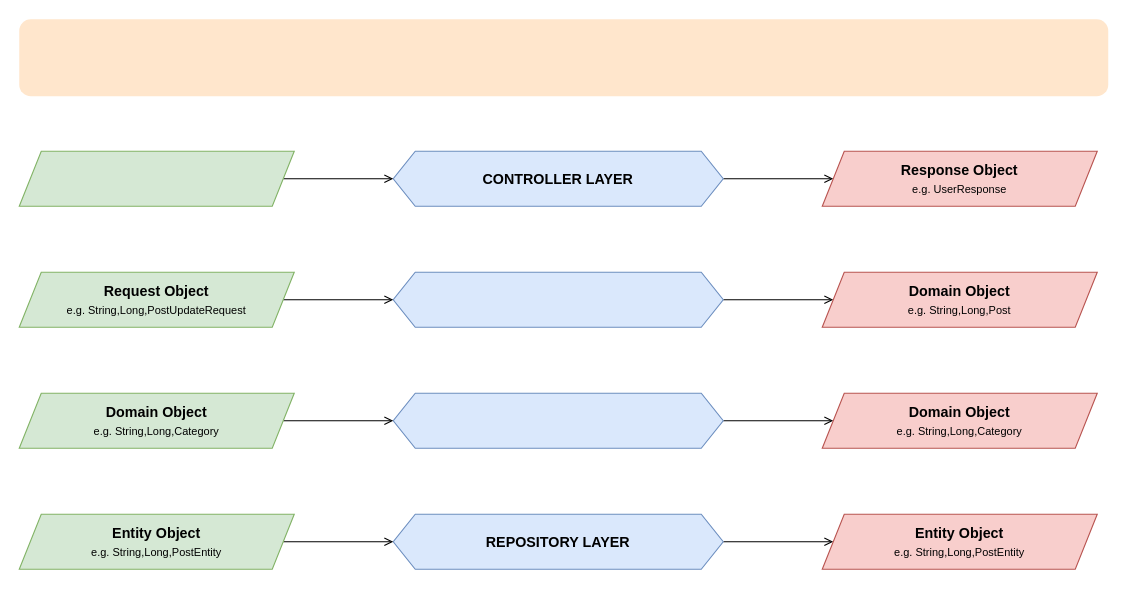
Some shapes in this 1128 by 589 pixel diagram are drawn without their labels. The centre of each missing label's shape, as x and y in pixels:
GB Architecture: point (563, 57)
PORT/ADAPTER LAYER: point (557, 420)
Request Object e.g. UserSaveRequest: point (156, 178)
SERVICE LAYER: point (557, 299)
